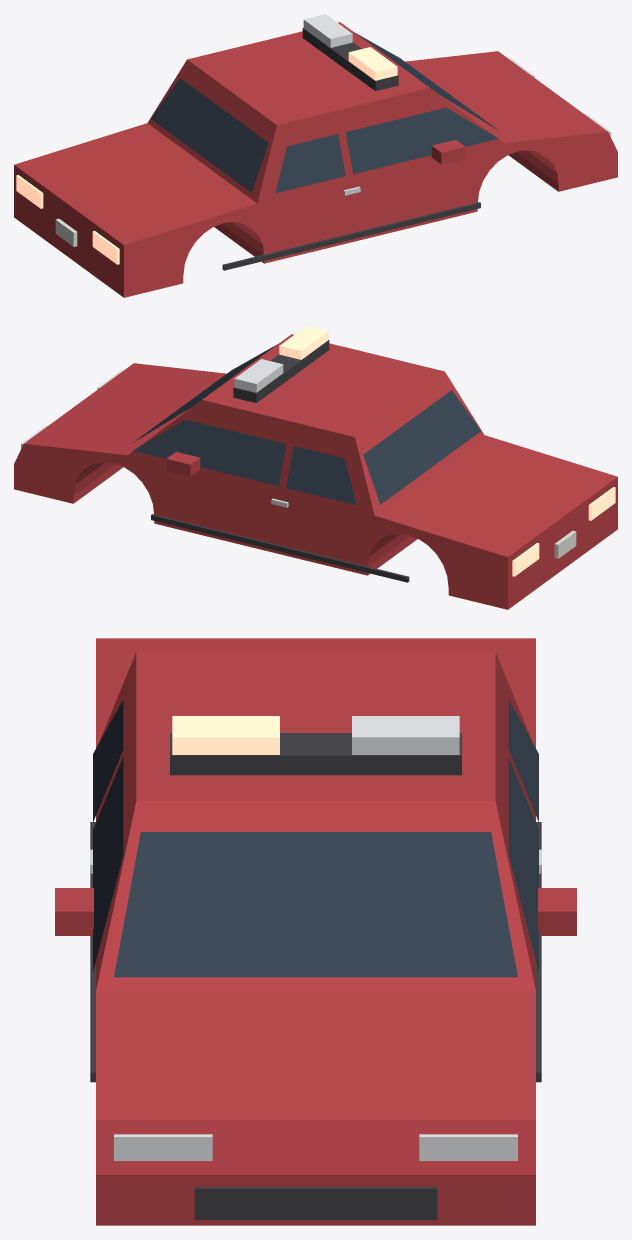
The model's file is SM_Veh_Police.fbx.
3 renders of one model, top to bottom at view 1: azimuth 30°, elevation 25°; view 2: azimuth 150°, elevation 25°; view 3: azimuth 270°, elevation 25°, orthographic. The views are drawn at different scales.
Visible parts, largest first — view 1: SM_Veh_Police; view 2: SM_Veh_Police; view 3: SM_Veh_Police.
Boxes of the visible parts, x1,y1,x2,y2 form: SM_Veh_Police: [14, 14, 617, 297]; SM_Veh_Police: [14, 326, 617, 609]; SM_Veh_Police: [55, 638, 576, 1225].
Size of the model in its own units: 476 by 215 by 133.
